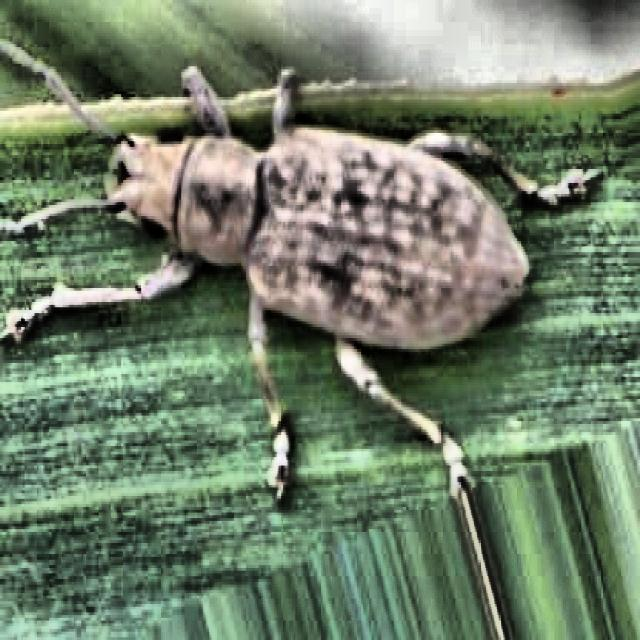Stink bug: (37, 31, 624, 508)
